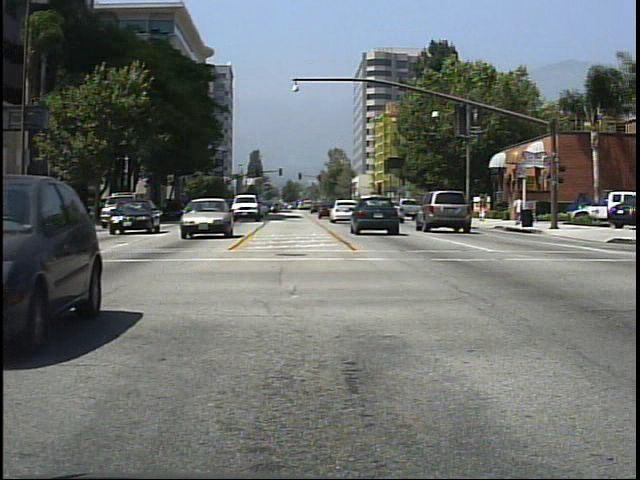person: (510, 194, 524, 229), (478, 191, 490, 224)
